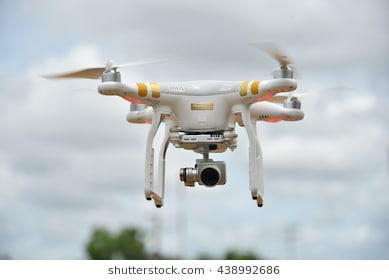drone: (37, 56, 305, 211)
